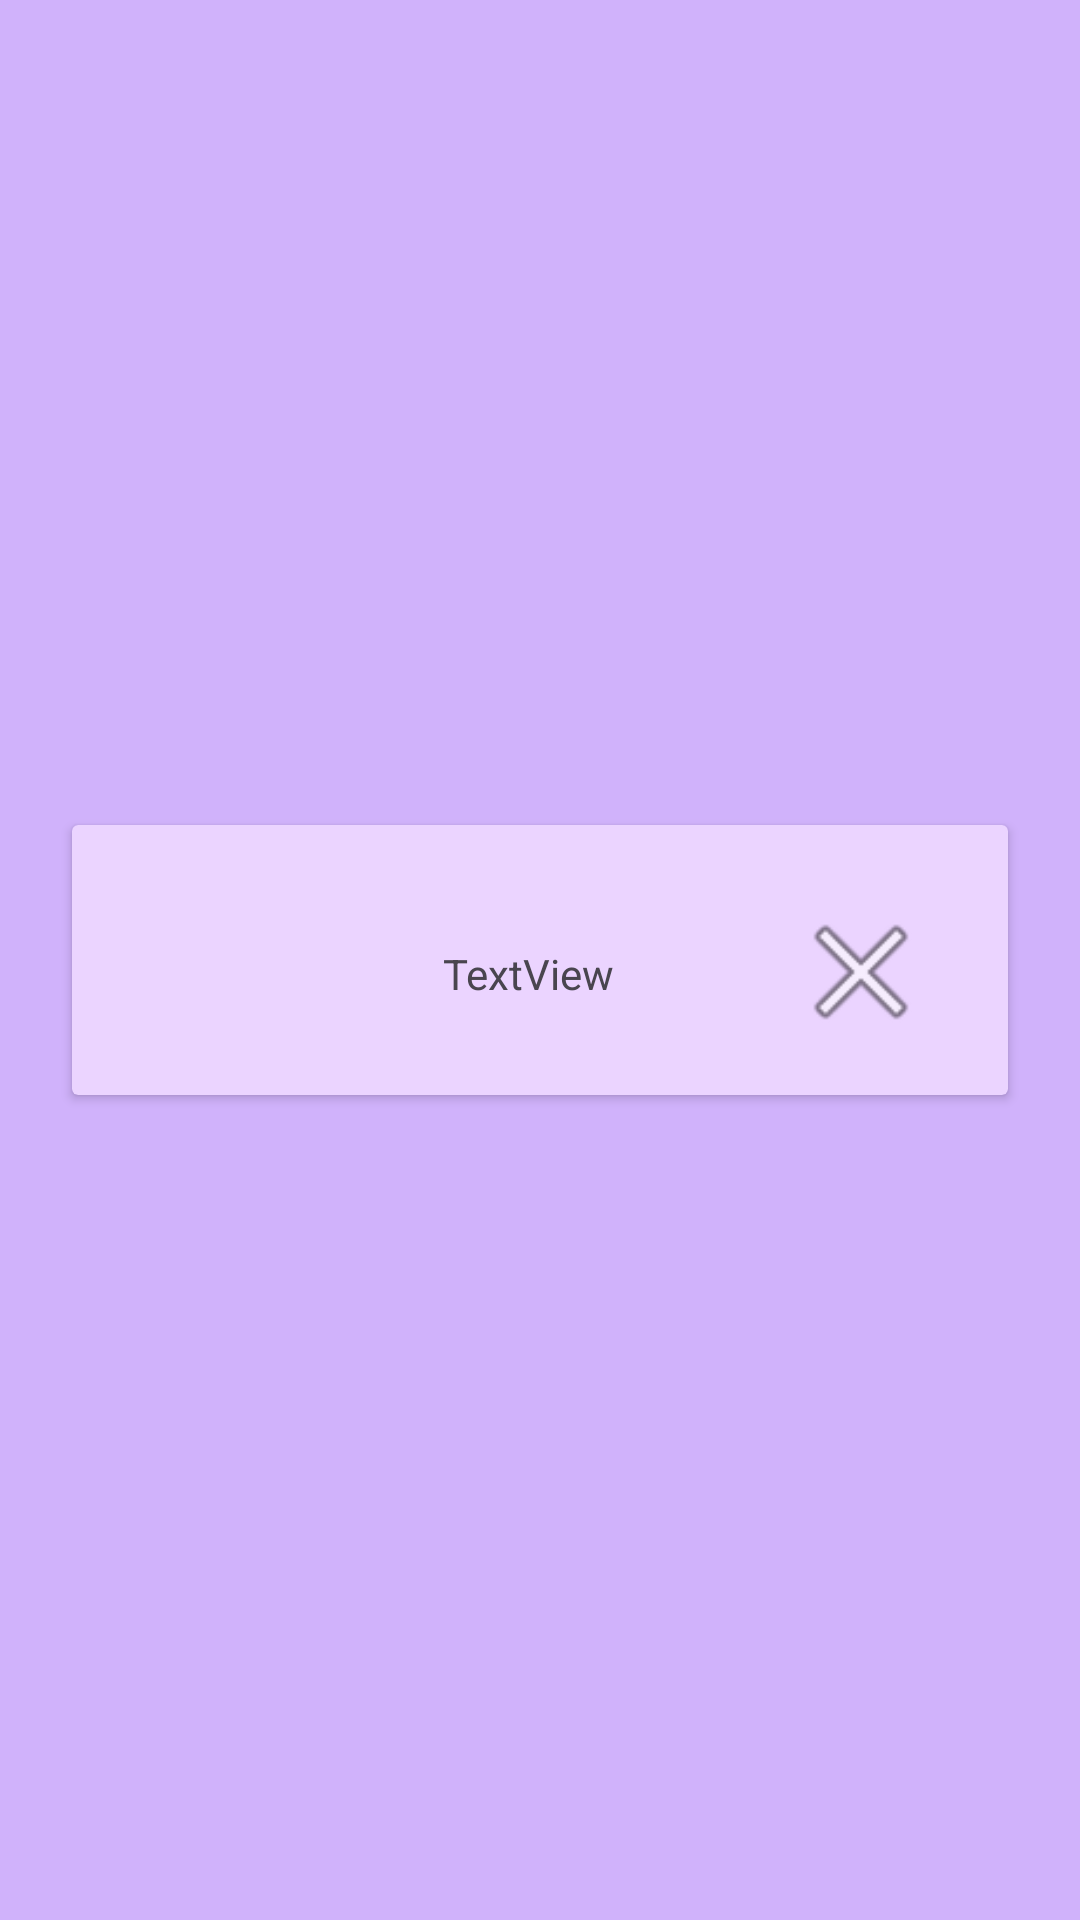

Point at icon controls on the screen. Image size 1080x1920, points as point (x, y).
close clear cancel: point (861, 972)
